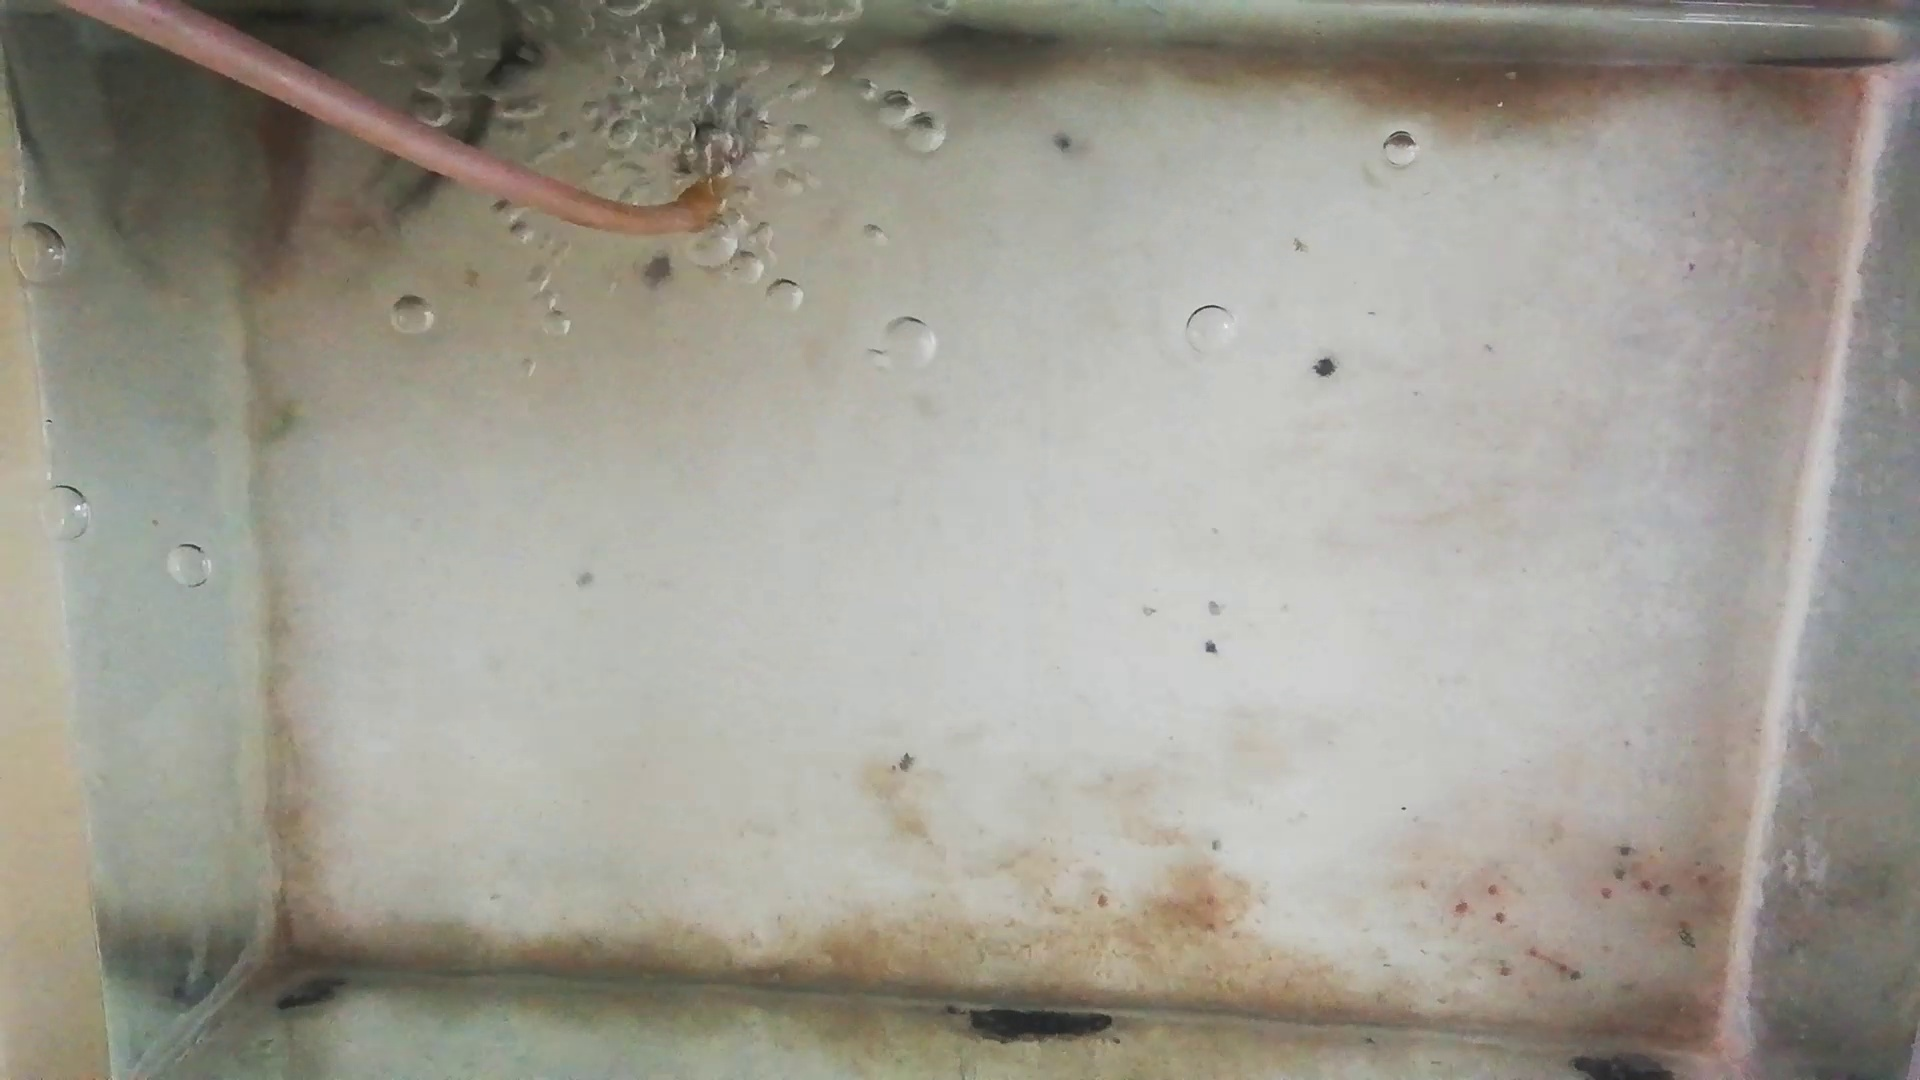fish: (390, 53, 520, 222), (262, 95, 316, 244)
